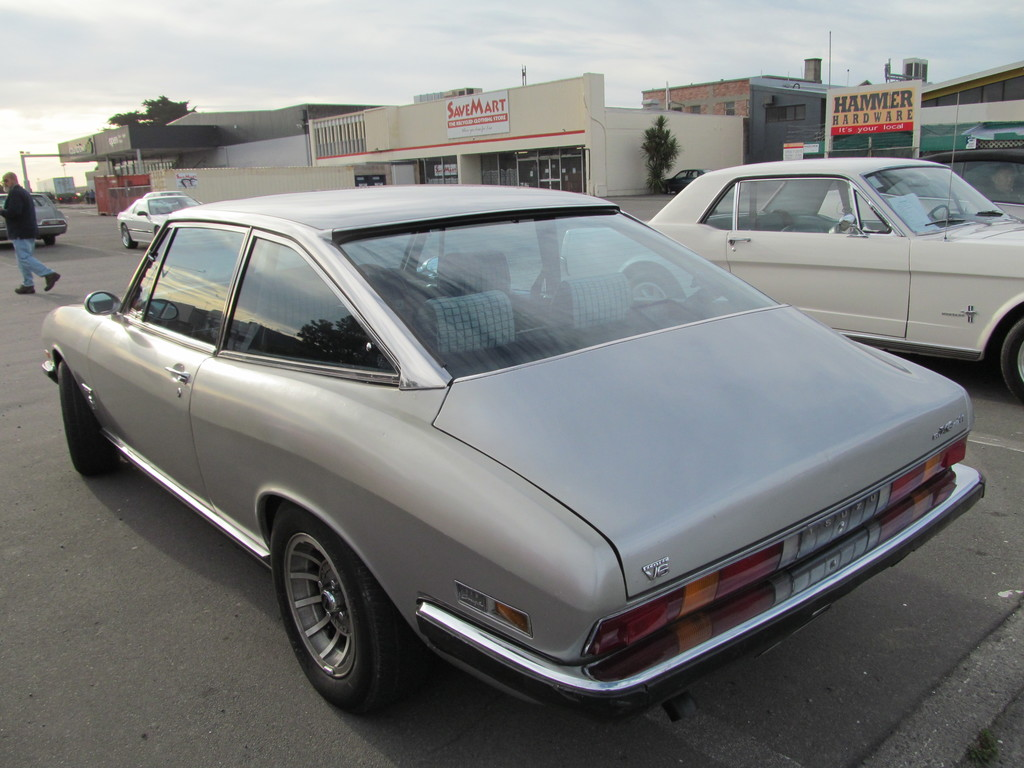Car: (39, 182, 984, 716), (559, 91, 1023, 406), (817, 149, 1023, 222), (116, 195, 202, 248), (0, 192, 67, 246), (146, 188, 199, 213), (57, 191, 81, 201), (36, 192, 53, 201)
